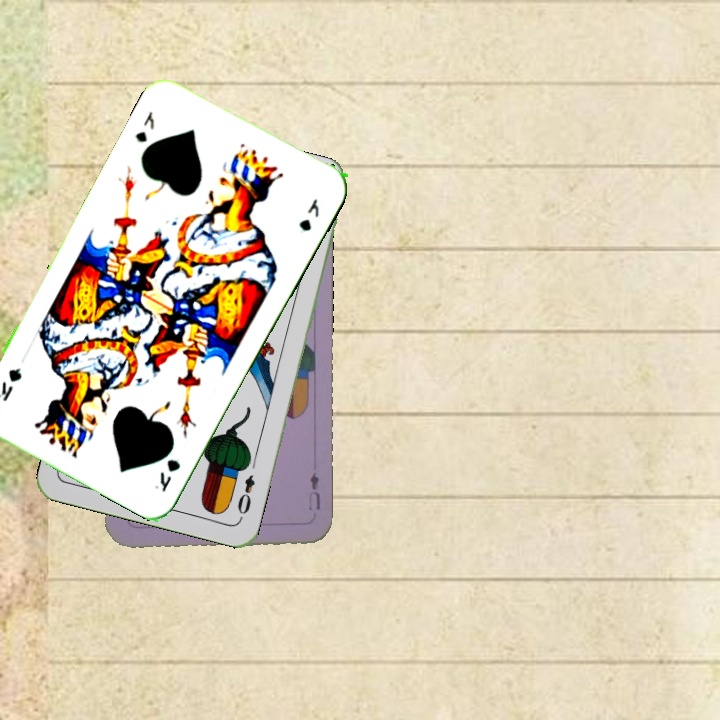EO: (233, 470, 258, 517)
EU: (304, 469, 322, 513)
GK: (150, 454, 183, 494), (131, 107, 157, 145)
